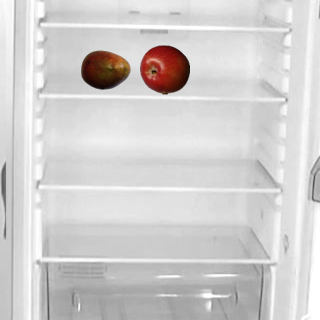Apple Braeburn: (139, 44, 189, 94)
Mango Red: (80, 44, 130, 94)
